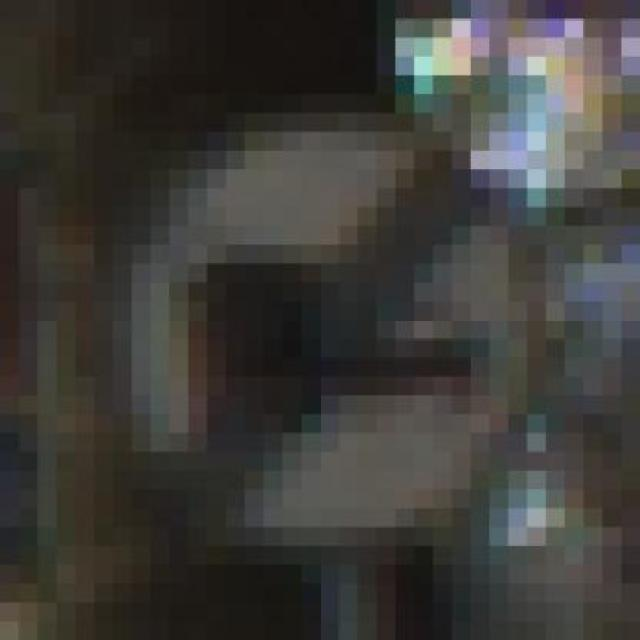Overtaking by trucks is prohibited: (93, 75, 564, 583)
